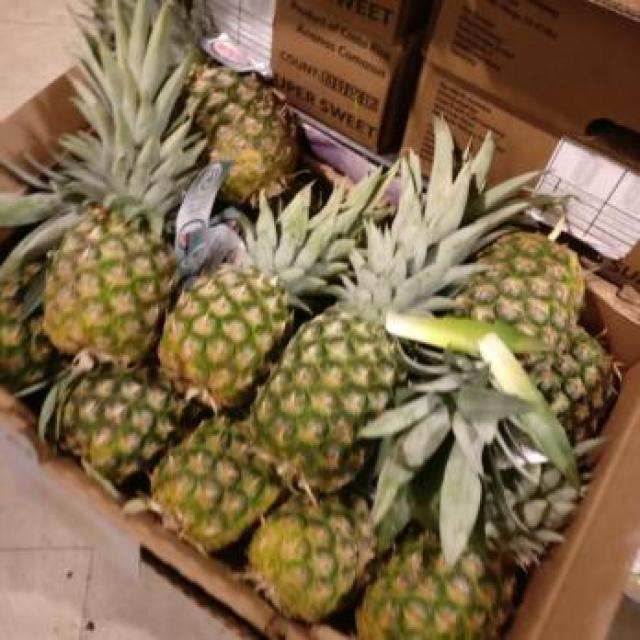pineapple: (251, 121, 526, 493), (361, 235, 585, 562), (44, 0, 205, 364), (158, 171, 389, 408), (174, 2, 295, 203), (151, 415, 281, 552), (358, 534, 516, 640), (250, 496, 375, 622), (61, 374, 185, 486), (522, 328, 619, 442), (0, 260, 56, 389)
